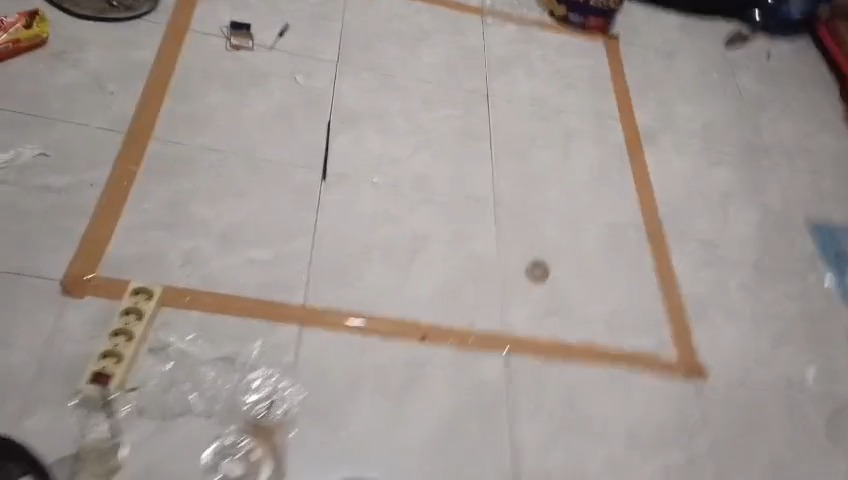floor marking: (161, 0, 707, 378), (61, 0, 197, 299)
